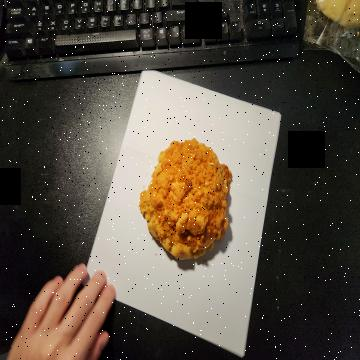soboru_bread: (136, 136, 233, 266)
